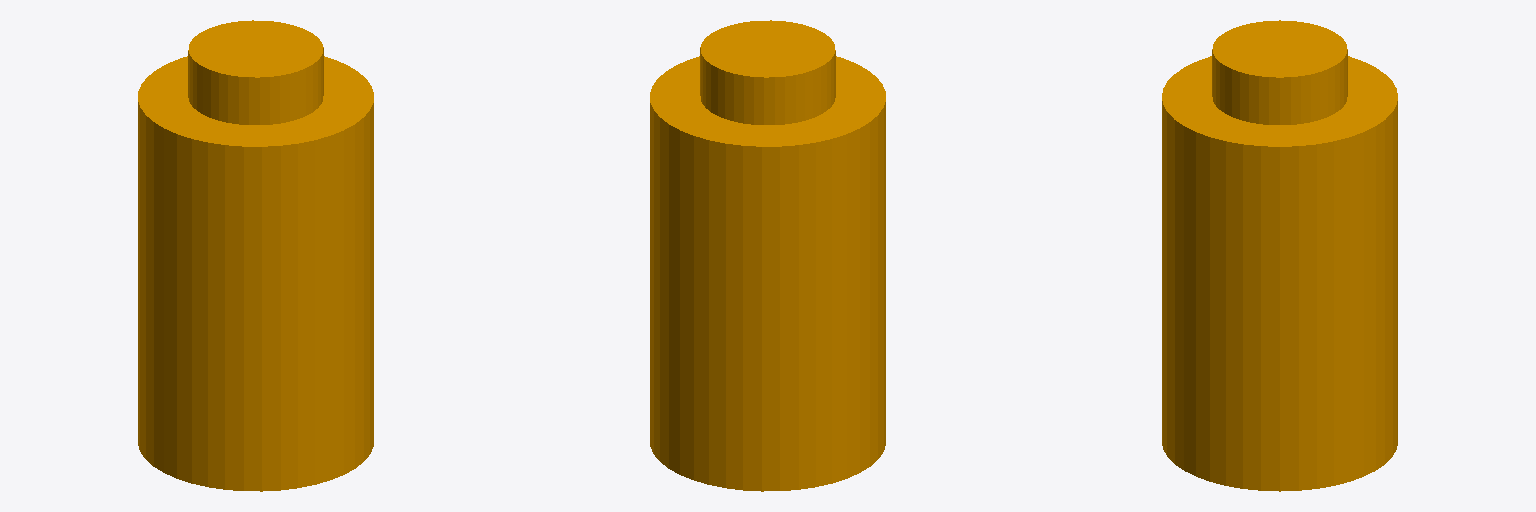
robot.urdf — screw_body_2:
<?xml version='1.0' encoding='utf-8'?>
<robot name="screw_body_2">
  <link name="body">
    <inertial>
      <origin xyz="-2.150642640242678e-19 3.8233646937647614e-20 0.09444685466377442" />
      <mass value="0.5" />
      <inertia ixx="0.0018895604214578304" iyy="0.0018895604214578304" izz="0.0007579698350936895" ixy="-4.732533934909018e-21" ixz="2.9033416467252984e-20" iyz="1.2797655874203015e-19" />
    </inertial>
    <collision>
      <geometry>
        <mesh filename="part_00.obj" />
      </geometry>
    </collision>
    <collision>
      <geometry>
        <mesh filename="part_01.obj" />
      </geometry>
    </collision>
    <visual>
      <geometry>
        <mesh filename="visual.obj" />
      </geometry>
    </visual>
  </link>
</robot>

--- Render facts (derived) ---
Views: 3 orthographic renders of the robot side by side, from view 1: azimuth 30°, elevation 25°; view 2: azimuth 150°, elevation 25°; view 3: azimuth 270°, elevation 25°.
Robot: screw_body_2 — 1 links, 0 joints (none); root link body; default pose: all joints at 0.
Visible links, largest first — view 1: body; view 2: body; view 3: body.
Boxes of the visible links, x1,y1,x2,y2 form: body: (138, 20, 373, 491); body: (650, 20, 885, 491); body: (1162, 20, 1397, 491).
Bounding box of the posed robot: 0.112 × 0.112 × 0.205 m (x, y, z).
1 mesh visuals loaded from 1 distinct referenced files (1 OBJ).
